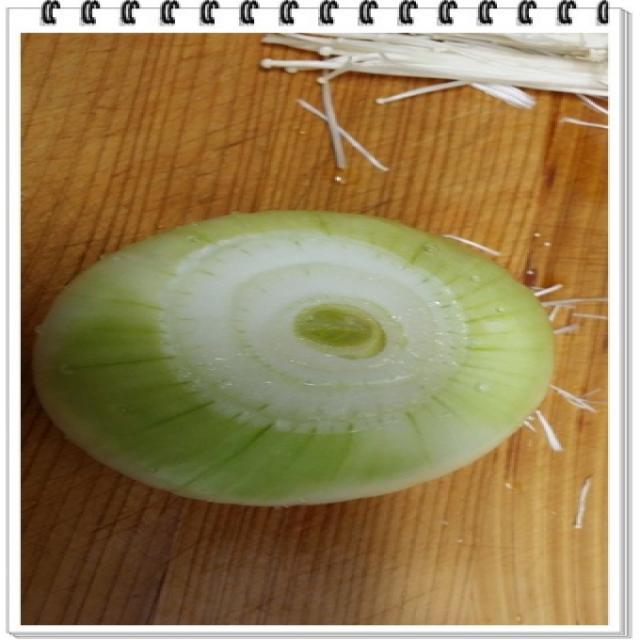Onion: (24, 204, 581, 506)
